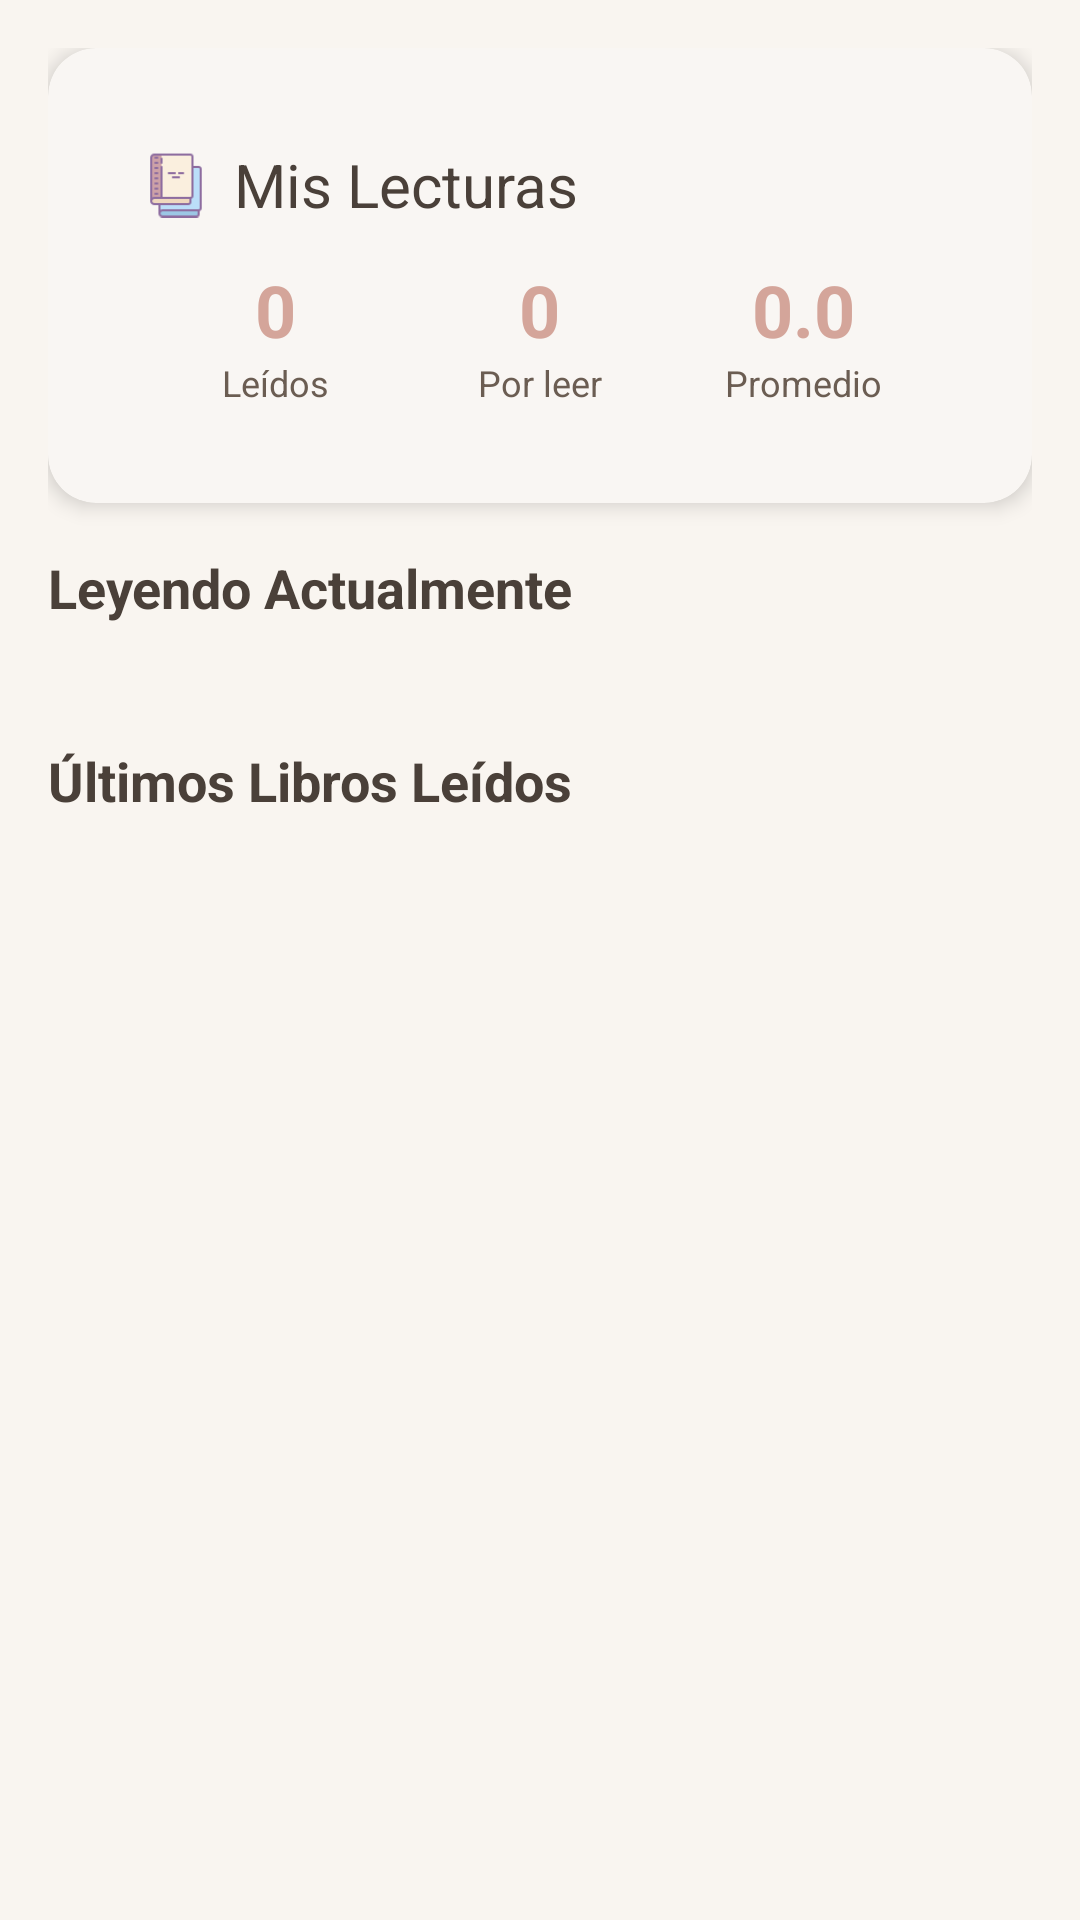

Named icons in this screenshot (1080*1920) and their bounding boxes, [x1, y1, x2, y2]:
libros: [150, 153, 202, 218]
